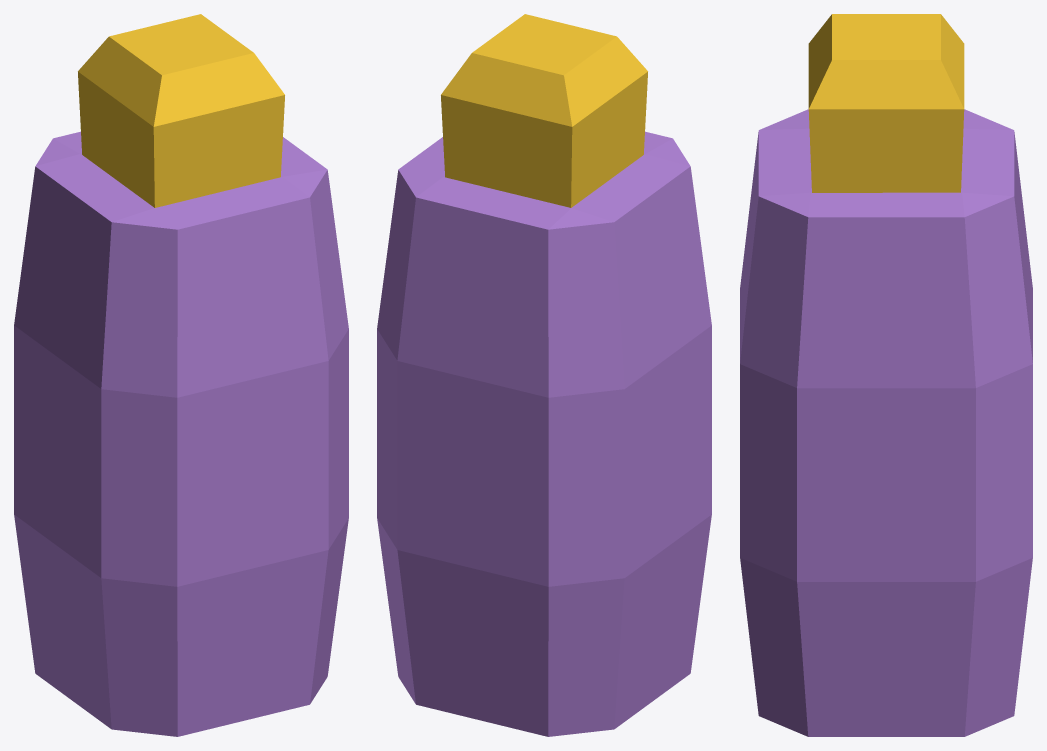
The model's file is Girl Stuff_2.fbx.
The picture shows the model from 3 angles, left to right: view 1: azimuth 30°, elevation 25°; view 2: azimuth 150°, elevation 25°; view 3: azimuth 270°, elevation 25°; orthographic projection. The views are drawn at different scales.
Parts seen in each view (by area): view 1: Girl Stuff_2; view 2: Girl Stuff_2; view 3: Girl Stuff_2.
Boxes of the visible parts, x1,y1,x2,y2 form: Girl Stuff_2: [14, 14, 348, 736]; Girl Stuff_2: [377, 14, 711, 736]; Girl Stuff_2: [740, 14, 1032, 736].
Size of the model in its own units: 0.0337 by 0.0821 by 0.0337.
